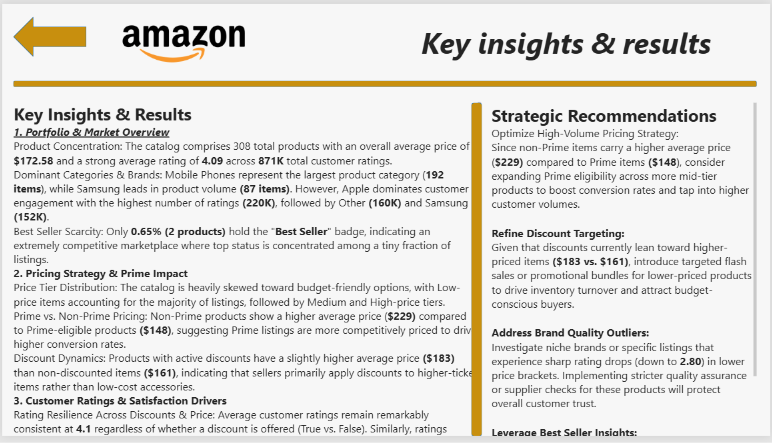

Layout of this report page (visuals, bound fields, positions):
{"tool":"powerbi","page":{"name":"Key insights & results","canvas":[1920,1080],"ordinal":4},"visuals":[{"type":"textbox","box":[900,47.5,1020,145],"z":0},{"type":"image","box":[155,32.5,597.5,135],"z":1000},{"type":"shape","box":[27.5,192.5,1858.8,15.5],"z":2000},{"type":"textbox","box":[28.6,245.7,1169.1,835.1],"z":3000},{"type":"textbox","box":[1223.3,246.7,663.3,833.3],"z":4000},{"type":"shape","box":[1173.3,246.7,26.7,833.3],"z":5000},{"type":"shape","box":[27.5,32.5,182.5,100],"z":5001}]}

Visuals, with their boxes in screenshot pixels (x1, y1, x2, y2), scaled from the page's 1920x1080 canvas onto the 772x443 screenshot:
textbox: l=362, t=19, r=771, b=79
image: l=62, t=13, r=303, b=69
shape: l=11, t=79, r=758, b=85
textbox: l=11, t=101, r=482, b=442
textbox: l=492, t=101, r=759, b=442
shape: l=472, t=101, r=482, b=442
shape: l=11, t=13, r=84, b=54
